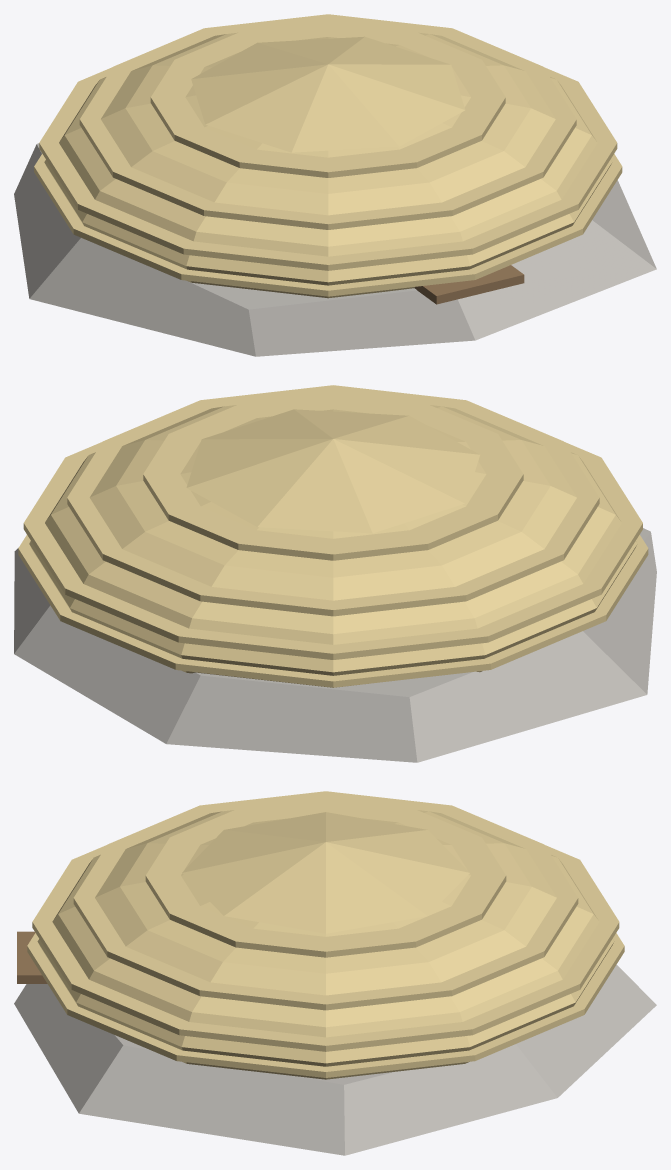
The model's file is building_bee_skep_foundation.glb.
The picture shows the model from 3 angles, top to bottom: view 1: azimuth 30°, elevation 25°; view 2: azimuth 150°, elevation 25°; view 3: azimuth 270°, elevation 25°; orthographic projection. The views are drawn at different scales.
Parts seen in each view (by area): view 1: building_bee_skep_foundation; view 2: building_bee_skep_foundation; view 3: building_bee_skep_foundation.
Boxes of the visible parts, box(x1,y1,x2,y2) form: building_bee_skep_foundation: box(14, 14, 656, 356); building_bee_skep_foundation: box(14, 385, 656, 762); building_bee_skep_foundation: box(14, 791, 656, 1155).
Size of the model in its own units: 0.665 by 0.1831 by 0.6243.
